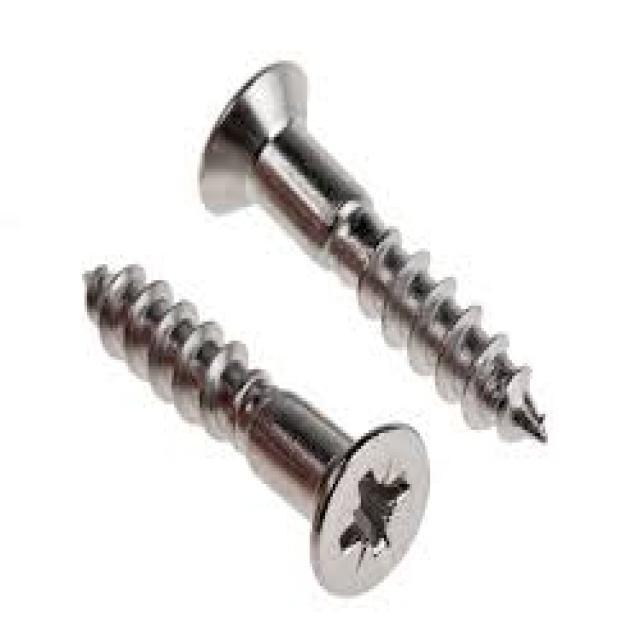Screw: (197, 60, 545, 446), (82, 261, 433, 599)
